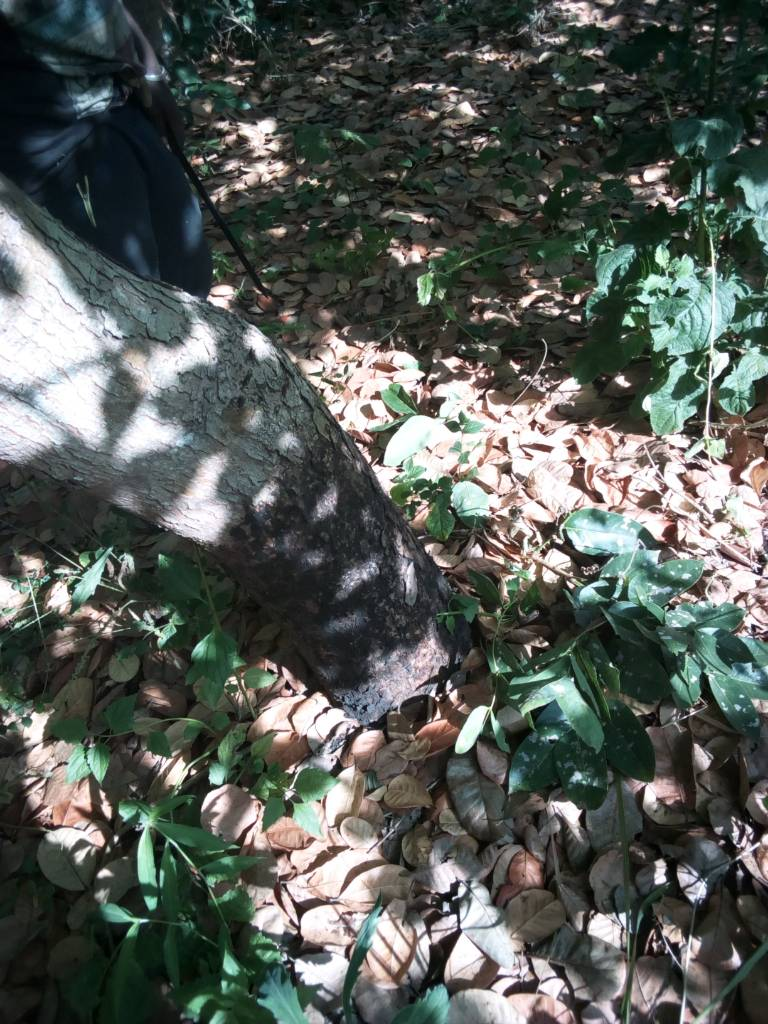Gommose: (265, 478, 435, 658)
